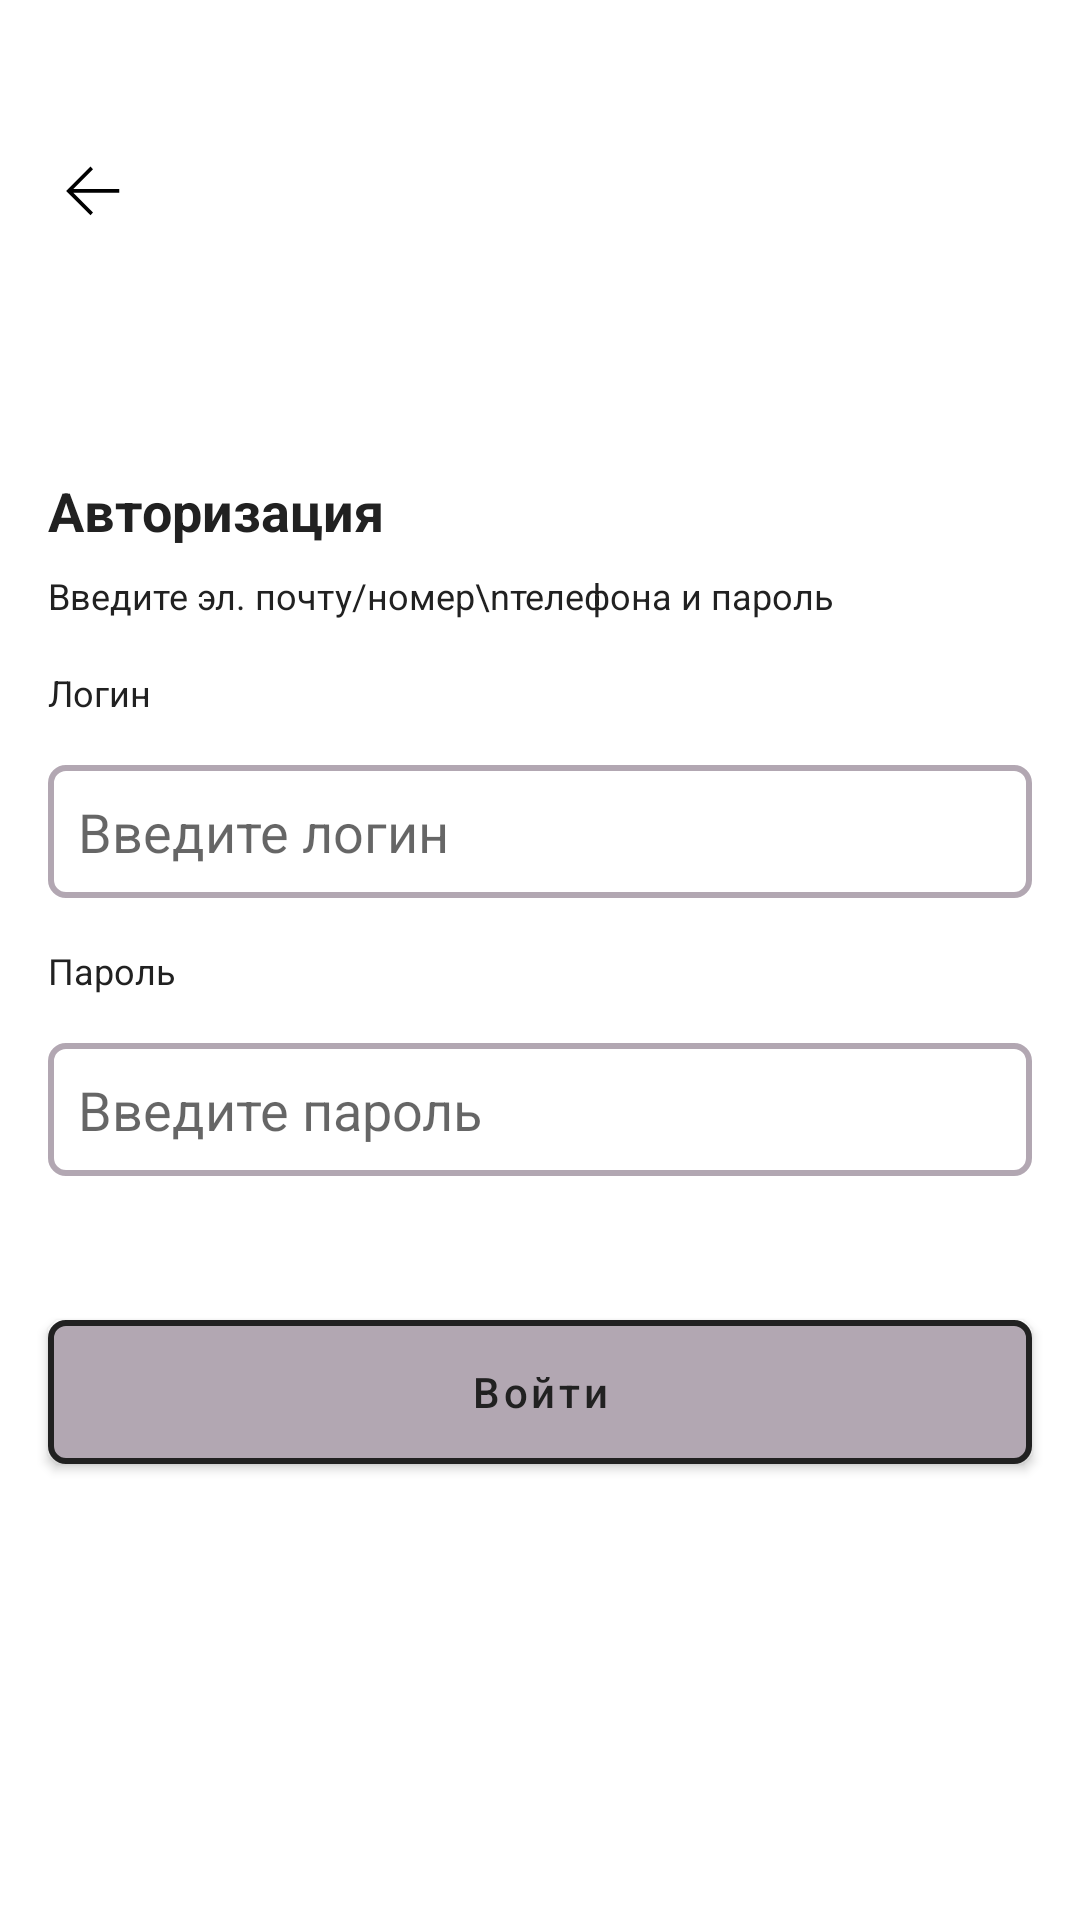

Icon bounding boxes for this 1080w x 1920h phone screenshot, format (x1, y1, x2, y2):
back: (66, 166, 120, 215)
